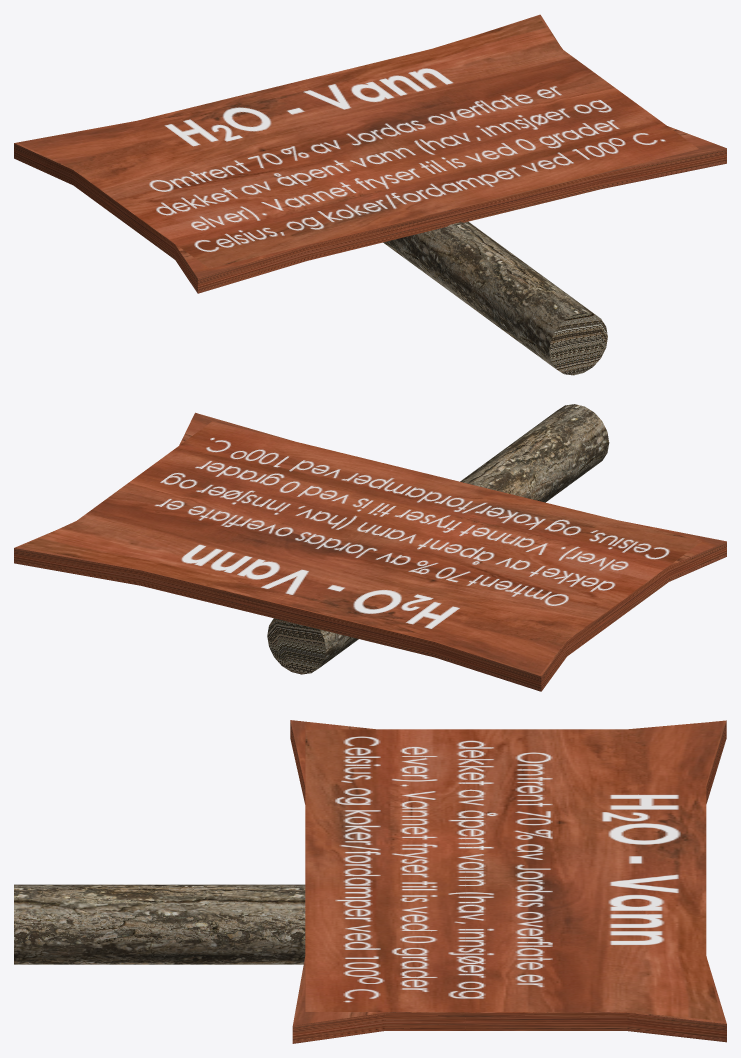
File: SkiltH2O_2.FBX
3 views of the same model, one above another, from view 1: azimuth 30°, elevation 25°; view 2: azimuth 150°, elevation 25°; view 3: azimuth 270°, elevation 25° (orthographic). The views are drawn at different scales.
Parts seen in each view (by area): view 1: H2O; view 2: H2O; view 3: H2O.
Boxes of the visible parts, x1=… form: H2O: x1=14, y1=14, x2=726, y2=375; H2O: x1=14, y1=404, x2=726, y2=691; H2O: x1=14, y1=720, x2=726, y2=1043.
Size of the model in its own units: 108 by 14.69 by 107.
3 materials, 3 textured.
